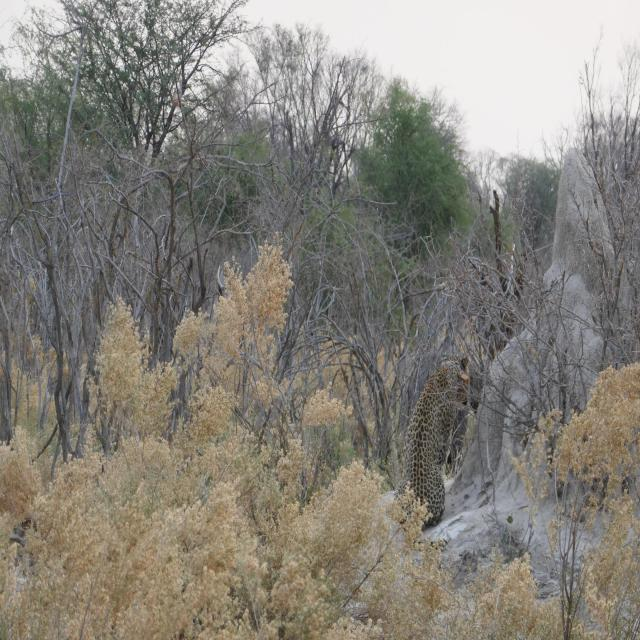Leopard: (397, 356, 471, 540)
